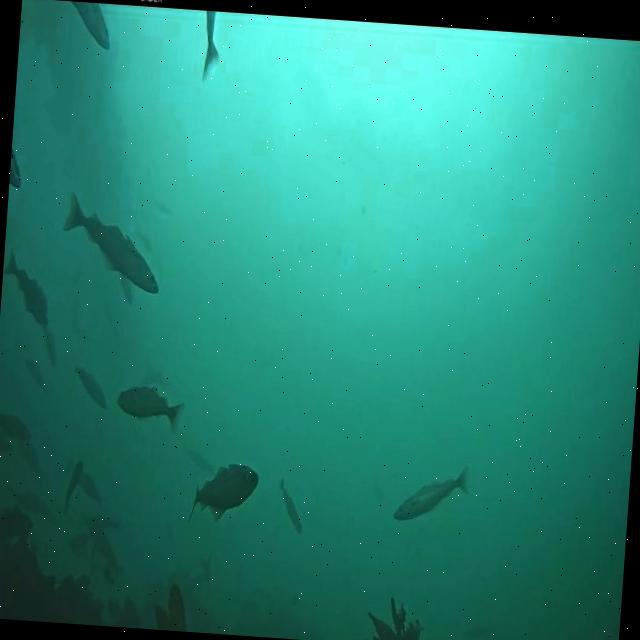fish: (62, 190, 166, 294), (392, 461, 471, 528), (189, 459, 259, 527), (0, 248, 54, 327), (116, 384, 186, 432), (68, 2, 114, 49), (200, 12, 224, 82), (276, 478, 306, 534), (72, 364, 110, 408), (0, 411, 31, 443), (64, 461, 82, 511), (77, 472, 105, 503), (40, 322, 60, 365), (82, 514, 123, 532), (22, 360, 46, 390), (8, 149, 24, 190), (118, 274, 136, 302)
